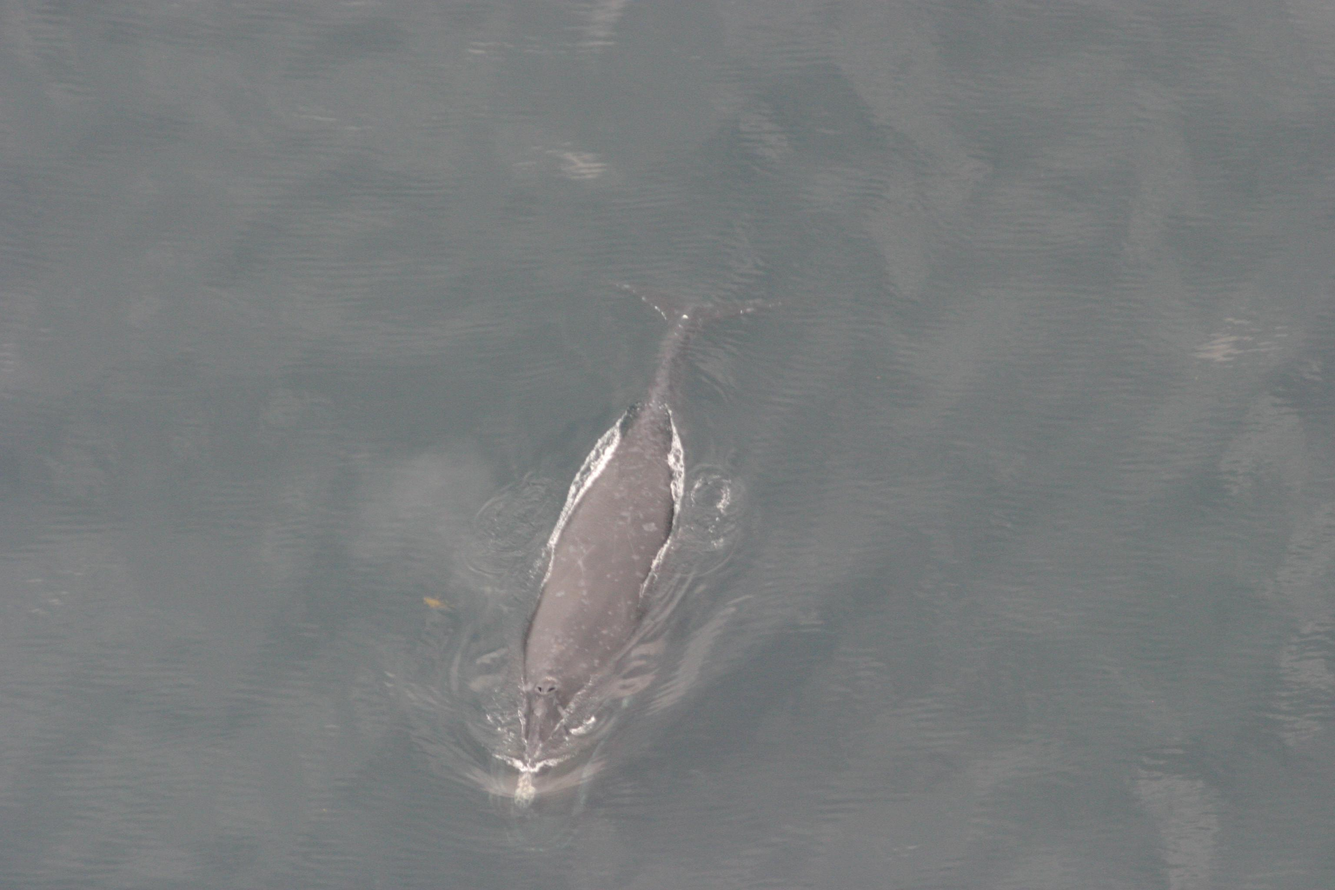whale: (469, 265, 811, 852)
